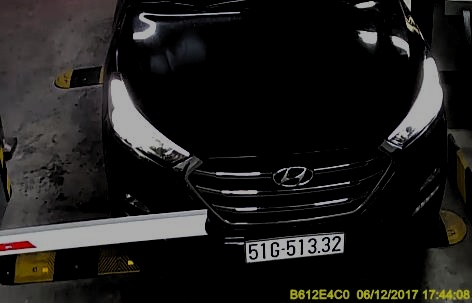plate: (240, 228, 346, 262)
